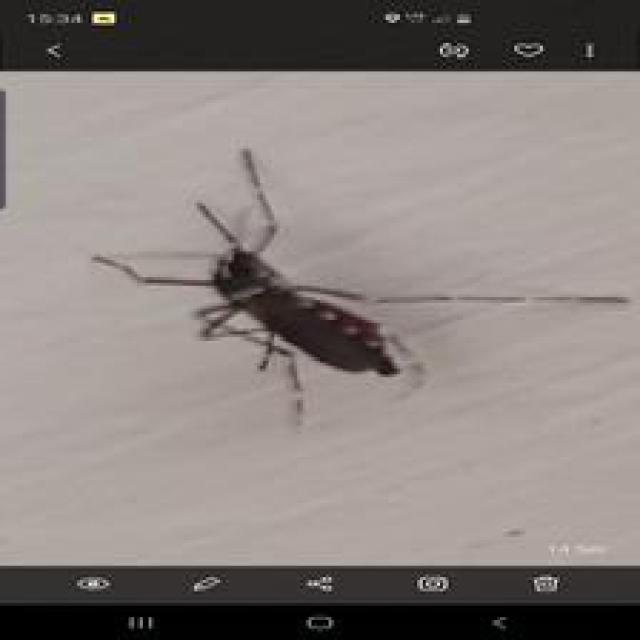Aedes albopictus: (90, 146, 630, 426)
